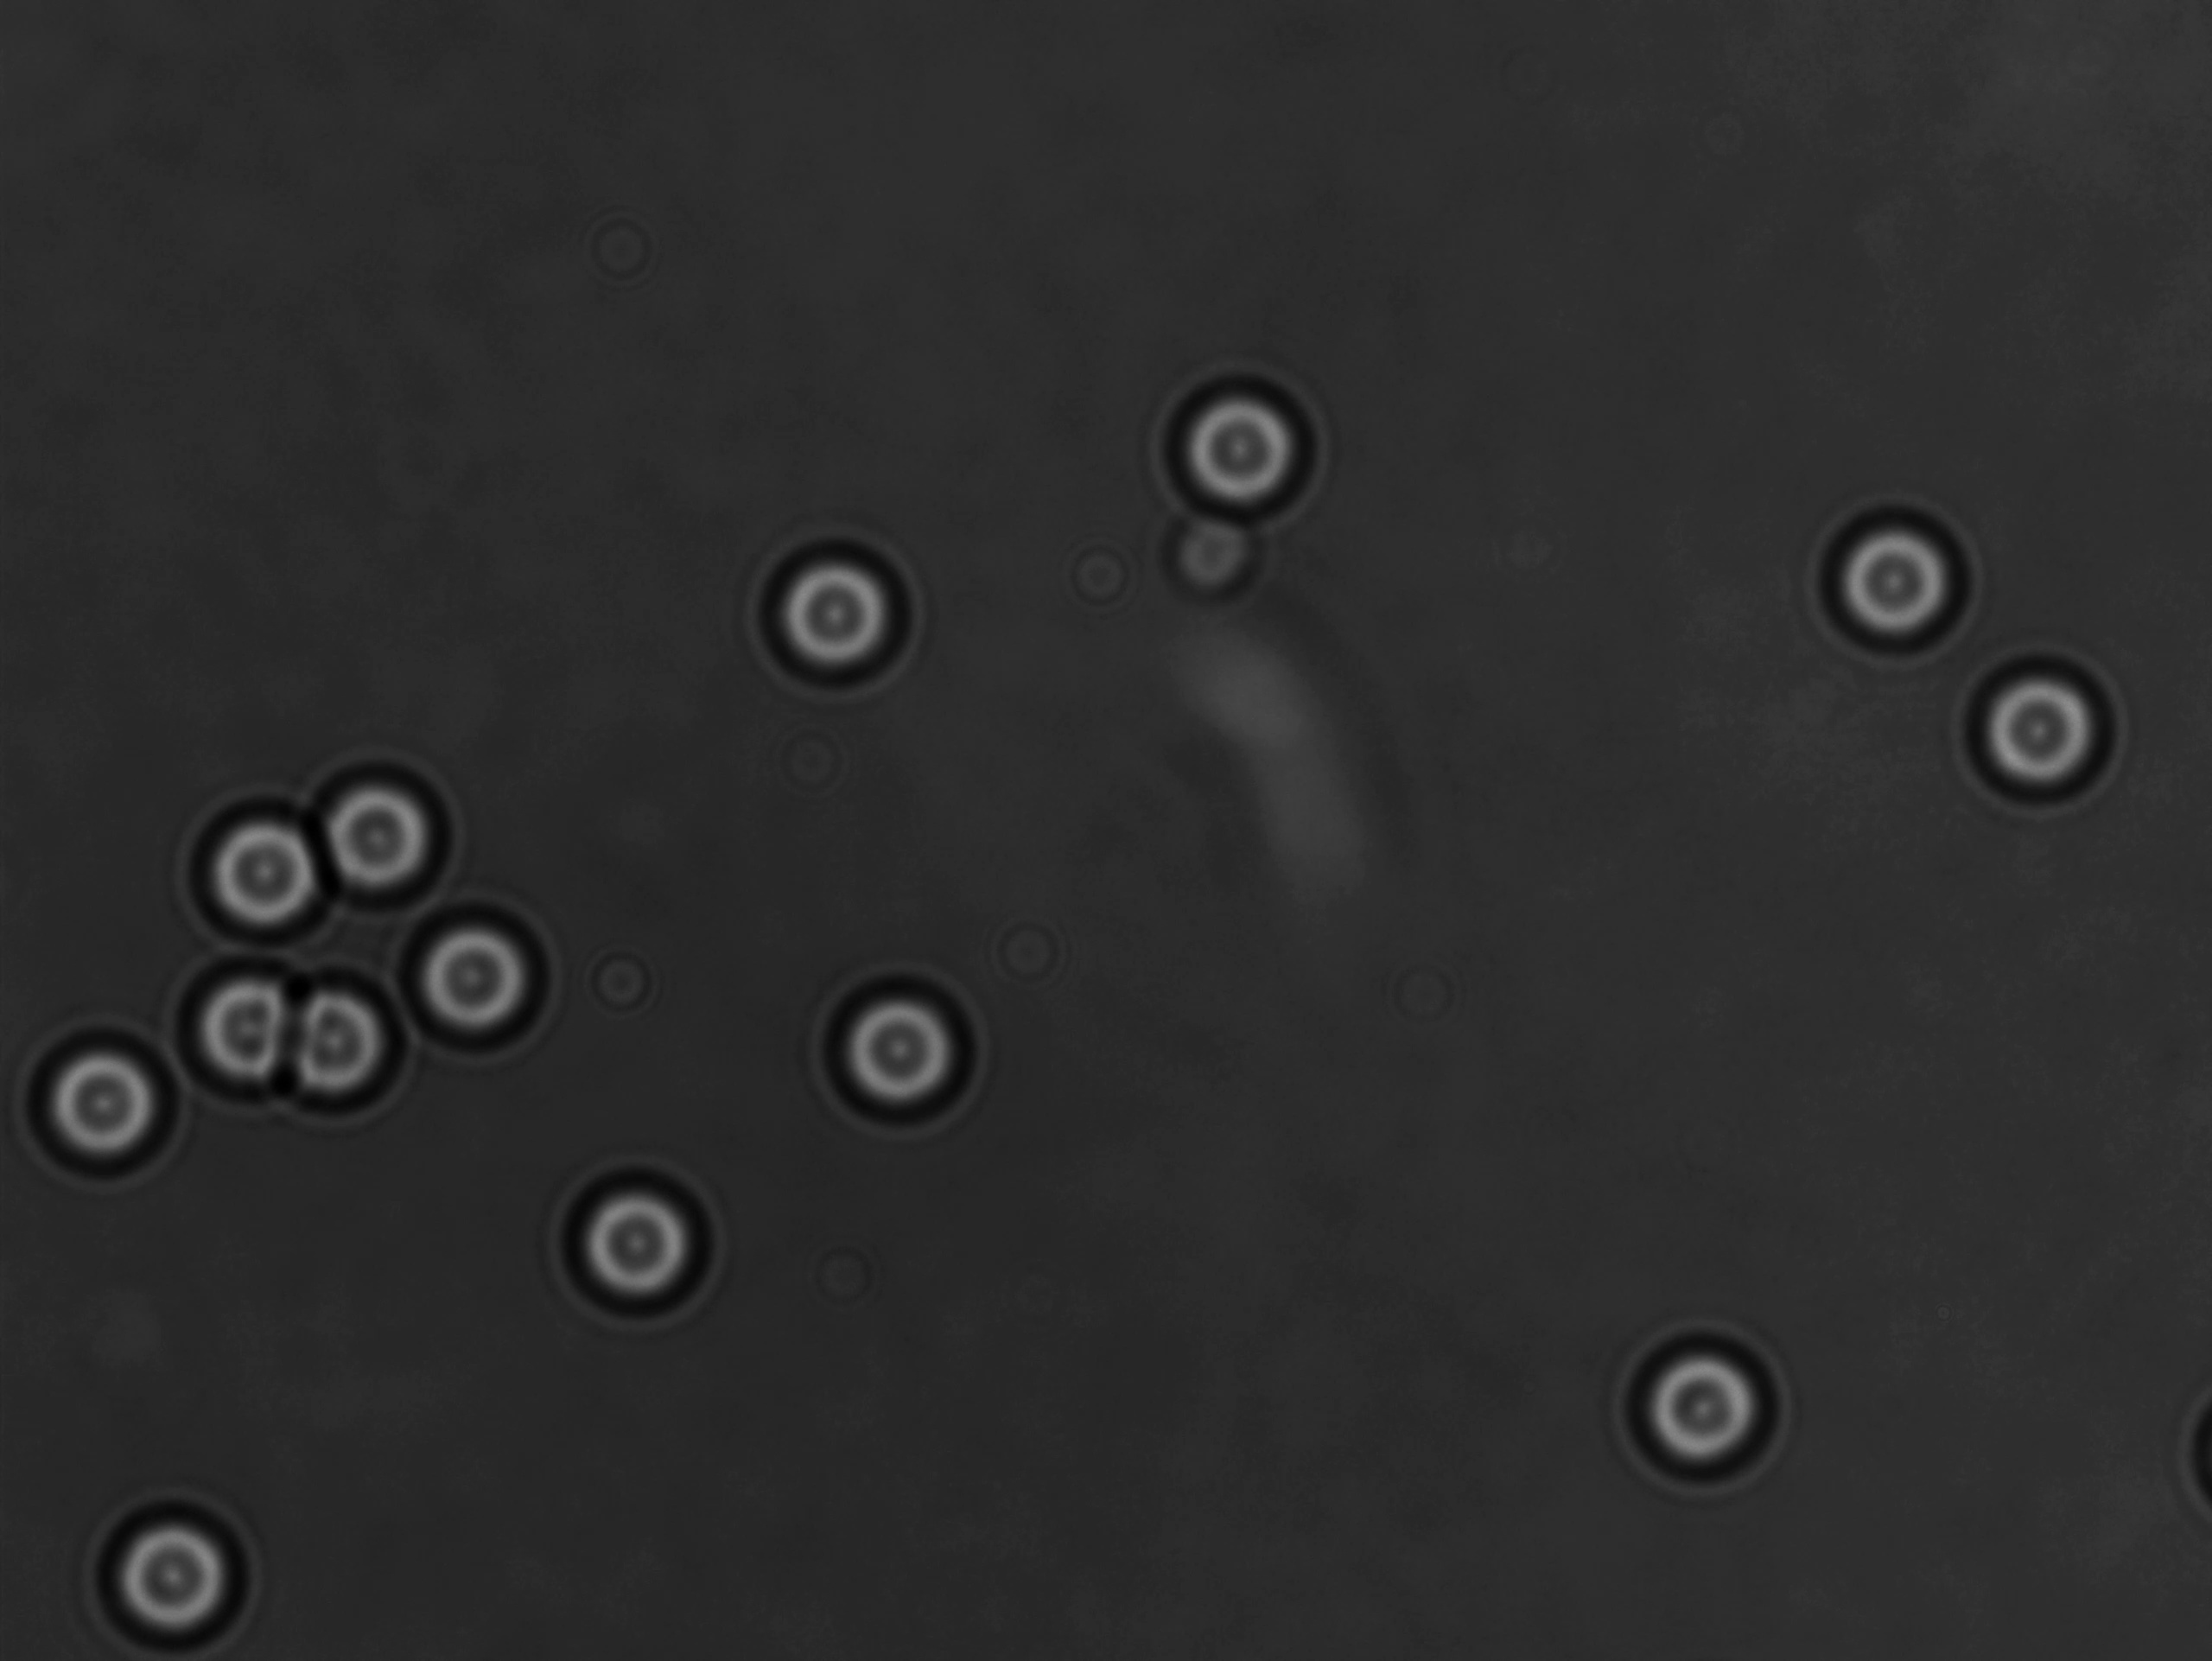depth:20: (1605, 1302, 1799, 1494), (1144, 345, 1340, 536), (1943, 630, 2139, 815), (811, 951, 989, 1150), (546, 1145, 736, 1324), (740, 523, 921, 700), (87, 1483, 263, 1661), (297, 759, 461, 935), (1814, 489, 1973, 668), (399, 897, 558, 1070), (185, 790, 344, 961), (21, 1015, 183, 1181)
